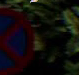No Stopping: (0, 3, 36, 74)
